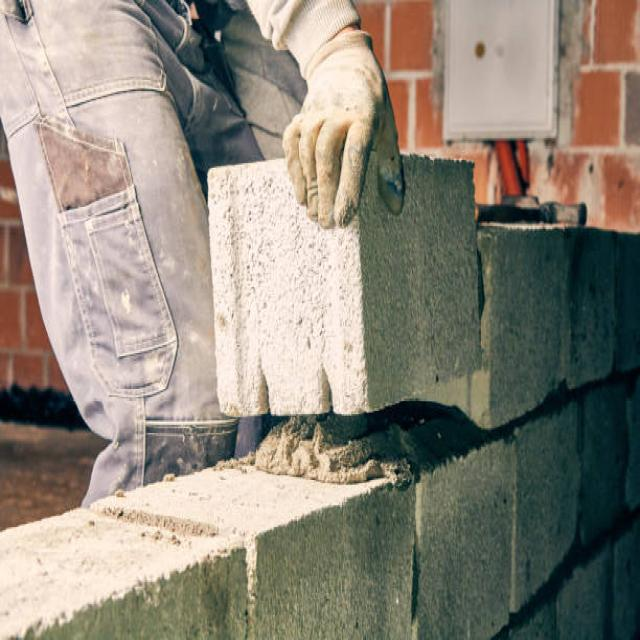gloves: (282, 31, 405, 226)
